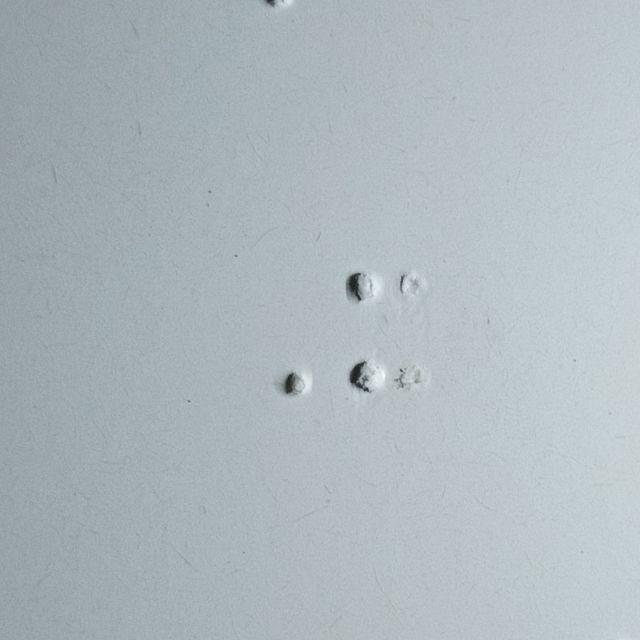K: (346, 272, 432, 394)
capital: (229, 275, 315, 397)
